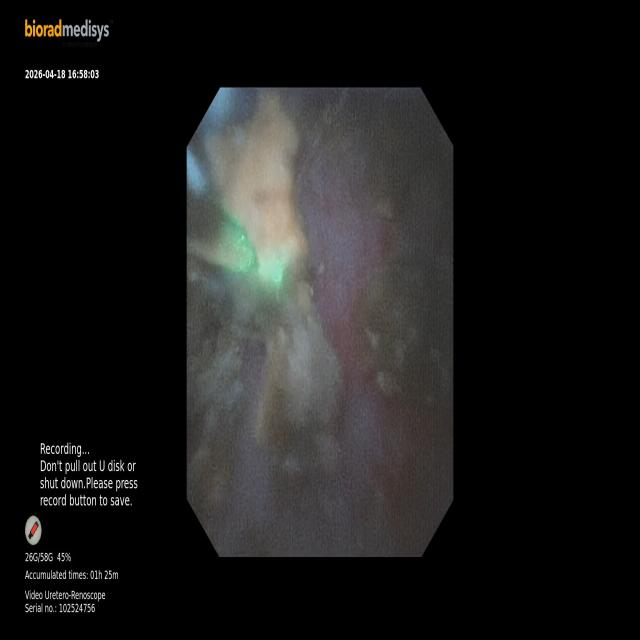laser-fibre: (186, 181, 248, 270)
laser_dot: (260, 258, 284, 286)
stone-new: (188, 92, 308, 325), (255, 283, 342, 465), (354, 263, 442, 398), (187, 308, 246, 503)
